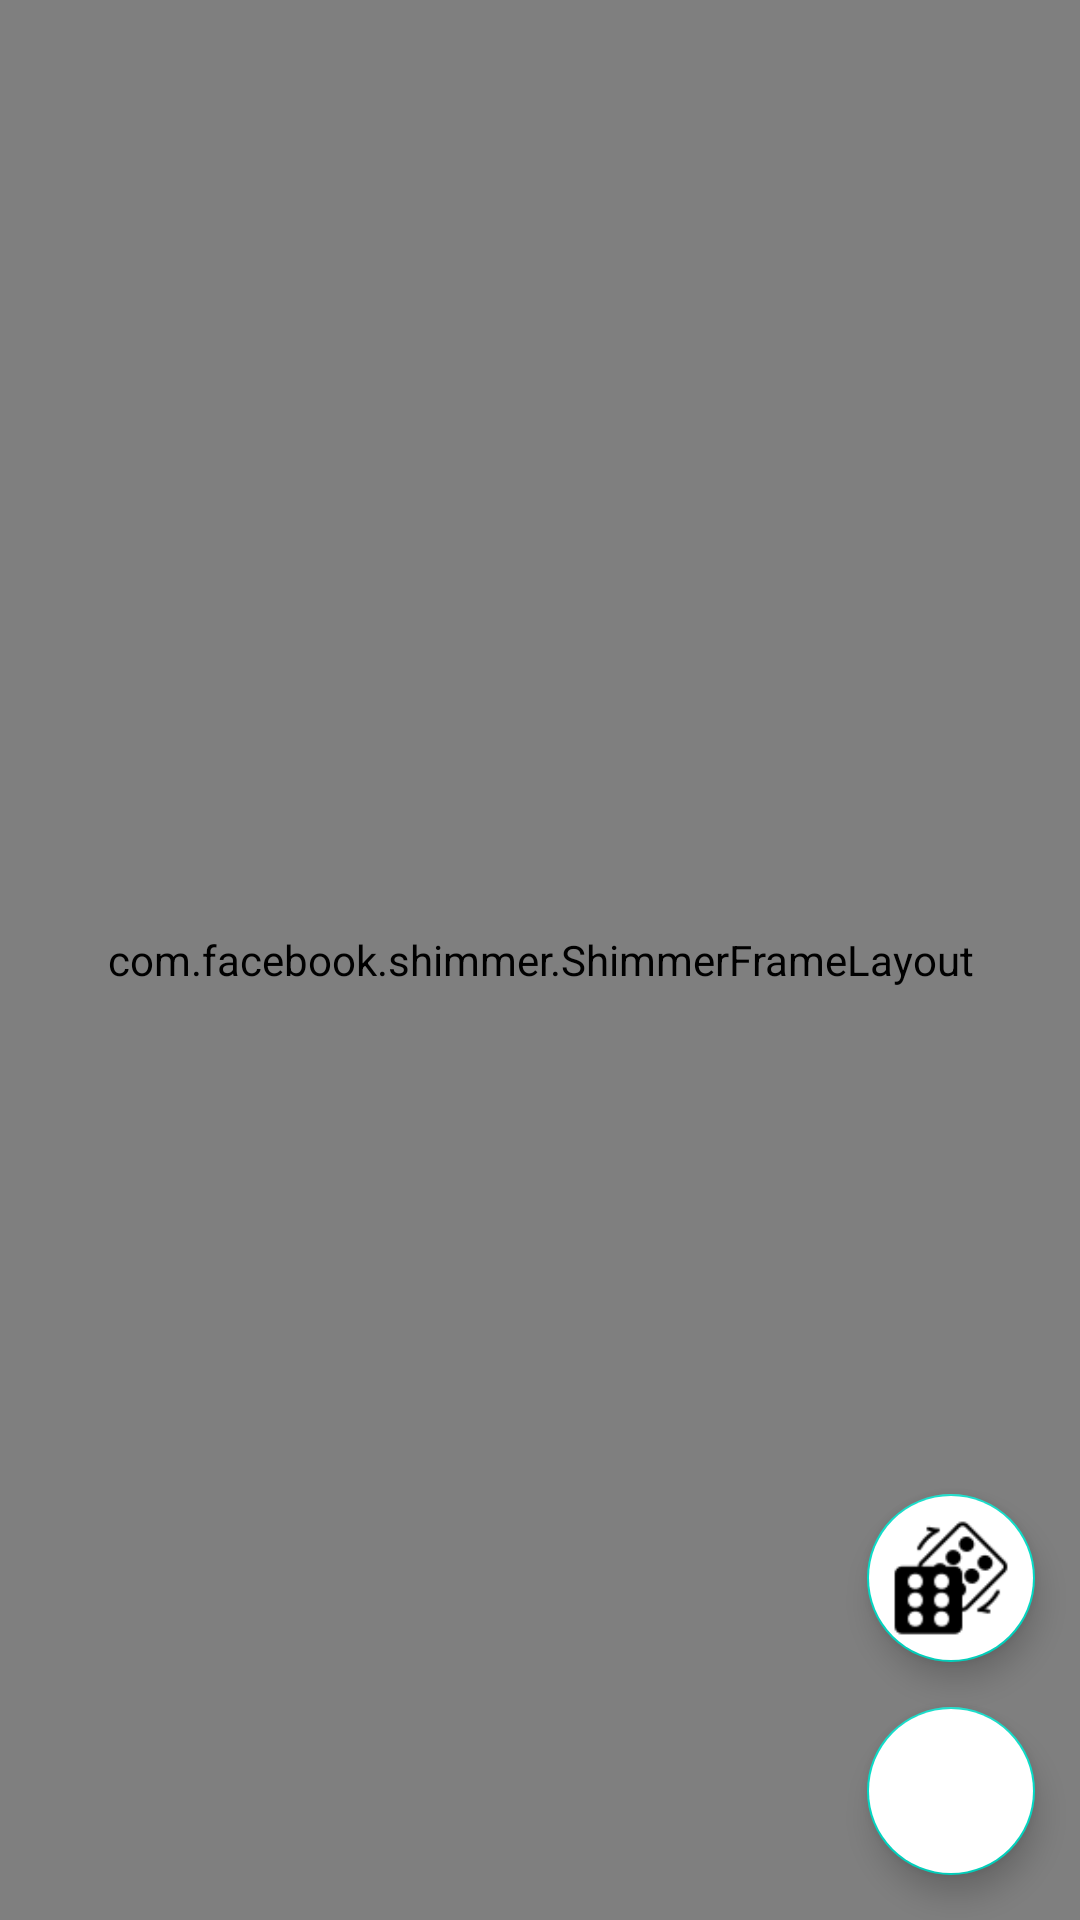

Icon click points for this 1080 × 1920 phone screenshot, format [x,y]:
random: [951,1578]
